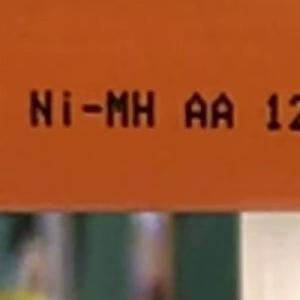NI-MH: (20, 81, 164, 136)
